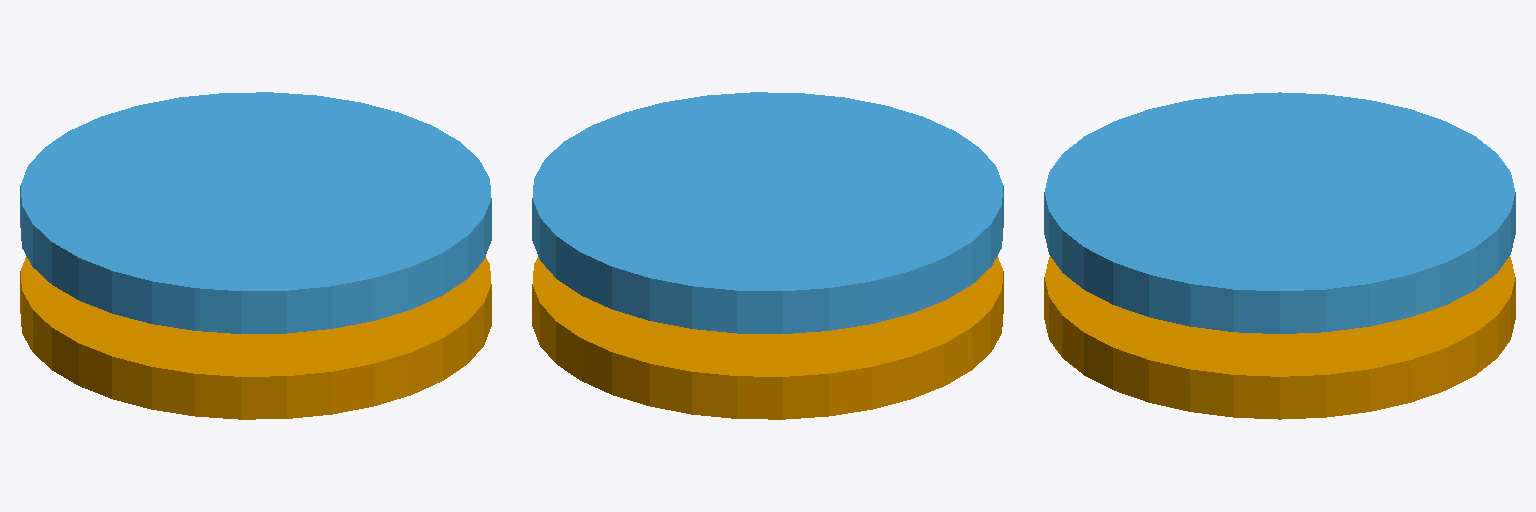
The robot description file, URDF, robot "parallel_platform":
<?xml version="1.0"?>
<robot name="parallel_platform">

  <!-- Base link -->
  <link name="base">
    <visual>
      <geometry>
        <cylinder length="0.1" radius="0.5"/>
      </geometry>
    </visual>
  </link>

  <!-- Platform link -->
  <link name="platform">
    <visual>
      <geometry>
        <cylinder length="0.1" radius="0.5"/>
      </geometry>
    </visual>
  </link>

  <!-- Joint connecting base to platform -->
  <joint name="base_to_platform" type="fixed">
    <parent link="base"/>
    <child link="platform"/>
    <origin xyz="0 0 0.2" rpy="0 0 0"/>
  </joint>

</robot>

--- Facts derived from the render (not from the file) ---
The picture shows the robot from 3 angles, left to right: view 1: azimuth 30°, elevation 25°; view 2: azimuth 150°, elevation 25°; view 3: azimuth 270°, elevation 25°; orthographic projection.
Model parallel_platform with 2 links and 1 joints (1 fixed), rooted at base, posed every joint at zero.
Visible links, largest first — view 1: platform, base; view 2: platform, base; view 3: platform, base.
Boxes of the visible links, x1,y1,x2,y2 form: platform: (20, 92, 491, 333); base: (20, 256, 491, 419); platform: (532, 92, 1003, 333); base: (532, 256, 1003, 419); platform: (1044, 92, 1515, 333); base: (1044, 256, 1515, 419).
Bounding box of the posed robot: 1 × 1 × 0.3 m (x, y, z).
Geometry: primitives only (box / cylinder / sphere), no mesh files.